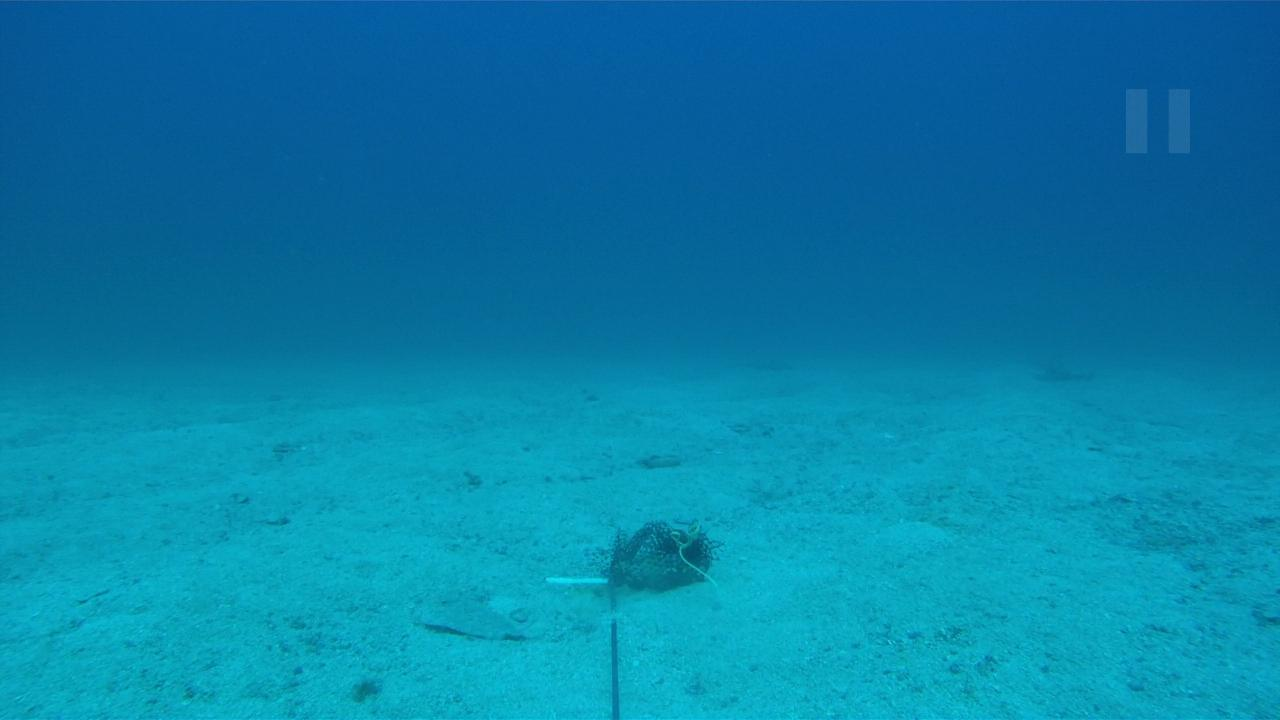bothus: (408, 592, 526, 644)
